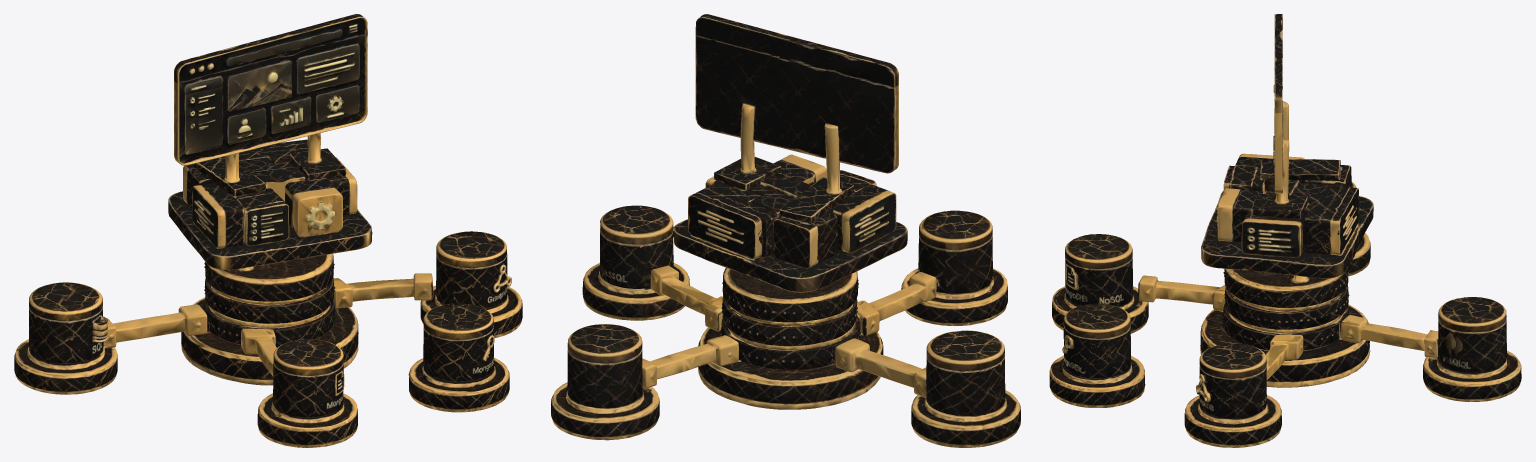
Rendered from systems-sculpture-5c8895c053.glb.
3 views of the same model, side by side, from view 1: azimuth 30°, elevation 25°; view 2: azimuth 150°, elevation 25°; view 3: azimuth 270°, elevation 25° (orthographic). The views are drawn at different scales.
Bounding box in the file's own units: 1.9 × 1.28 × 1.82.
Materials: 1 (1 with a texture image).
